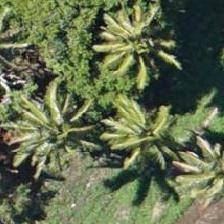coconut_tree: (107, 88, 197, 178), (0, 89, 90, 179), (98, 0, 188, 64)
